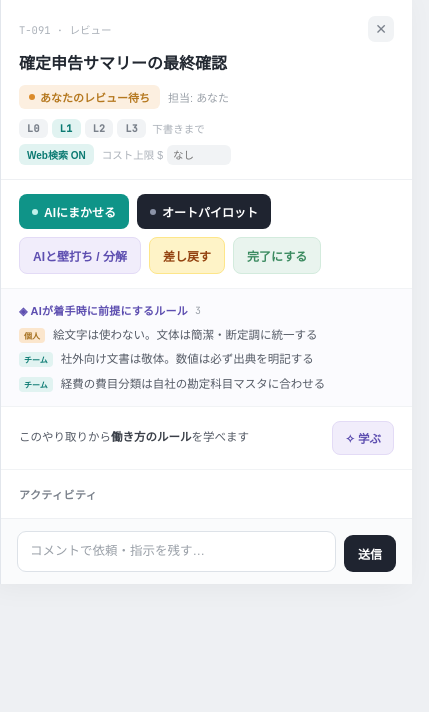
Test case: reject 結線と理由入力（#23: 構造化差し戻し） › you_review のカードに「差し戻す」を表示し、理由を付けて POST /reject を呼ぶ
Click the button "差し戻す": (187, 256) [149, 237, 225, 274]
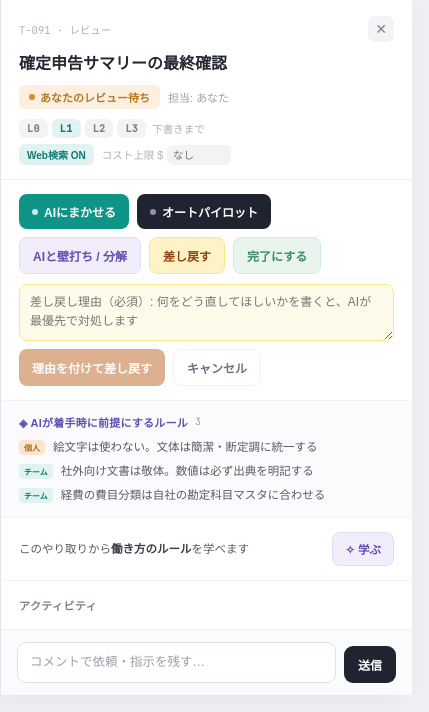
Check: the button "理由を付けて差し戻す" is disabled, box [19, 349, 165, 386]
In the text box labelled "差し戻し理由": (206, 312) [19, 284, 394, 341], type "出典URLを追記してください"
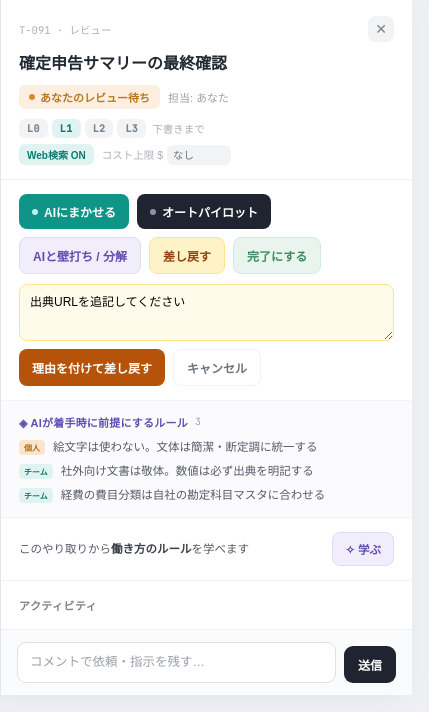
Click the button "理由を付けて差し戻す": (92, 367) [19, 349, 165, 386]
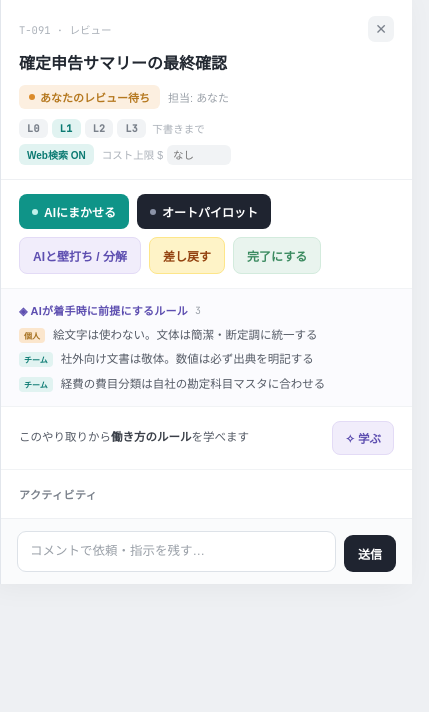
Check: the text box labelled "差し戻し理由" is gone
